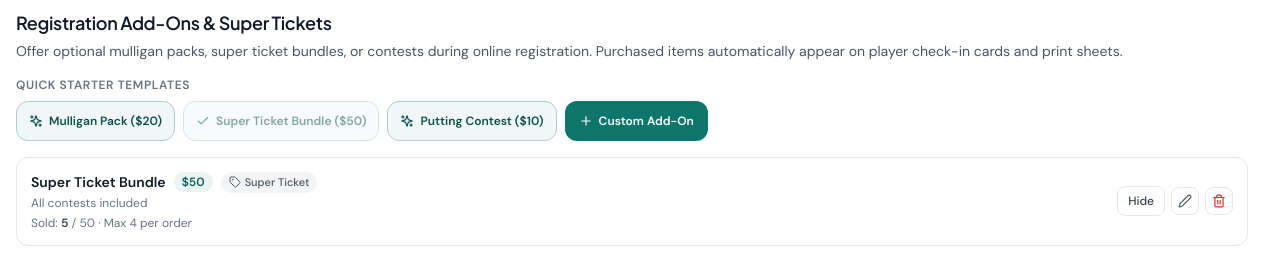
Scenario: TournamentAddOnsPanel › deactivates add-ons with purchases instead of removing them
Click the button named "Delete Super Ticket Bundle": point(1219, 201) top-left (1205, 187), bottom-right (1233, 215)
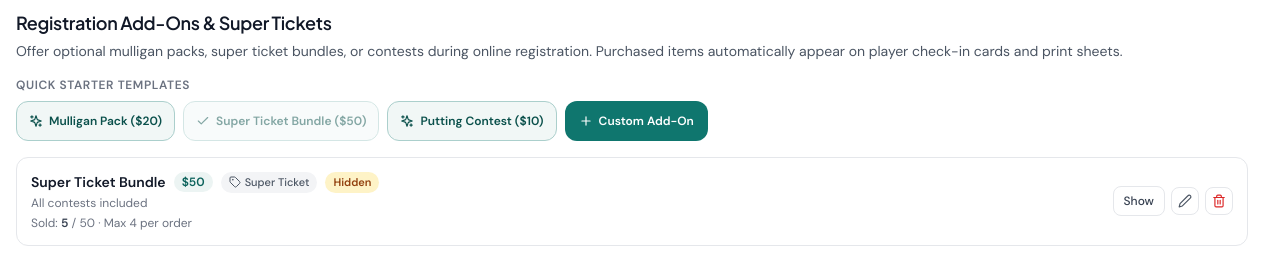
Result: the text "Hidden" is shown at top-left (325, 172), bottom-right (379, 192)
